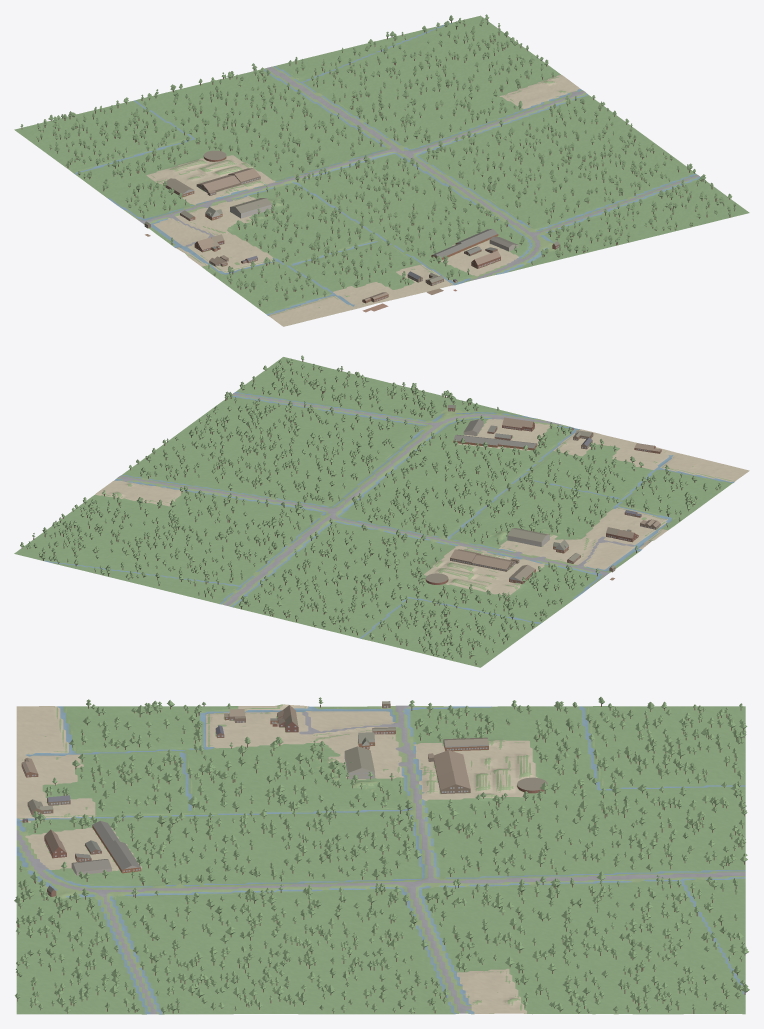
File: bosven-veghel_x333_y811.glb
3 renders of one model, top to bottom at view 1: azimuth 30°, elevation 25°; view 2: azimuth 150°, elevation 25°; view 3: azimuth 270°, elevation 25°, orthographic. The views are drawn at different scales.
Visible parts, largest first — view 1: class:green, class:tree, class:sand, class:grass, class:water, class:trunk, class:road, class:roof, class:wall; view 2: class:green, class:tree, class:sand, class:grass, class:water, class:trunk, class:road, class:roof, class:wall; view 3: class:green, class:tree, class:sand, class:grass, class:water, class:road, class:trunk, class:roof, class:wall, class:trim.
Boxes of the visible parts, bbox=[...] form: class:green: bbox=[14, 15, 749, 314]; class:tree: bbox=[20, 14, 736, 304]; class:sand: bbox=[146, 74, 580, 326]; class:grass: bbox=[75, 65, 697, 316]; class:water: bbox=[75, 23, 700, 315]; class:trunk: bbox=[21, 19, 734, 306]; class:road: bbox=[137, 66, 699, 280]; class:roof: bbox=[145, 150, 559, 300]; class:wall: bbox=[144, 156, 559, 312]; class:green: bbox=[14, 357, 732, 667]; class:tree: bbox=[20, 355, 721, 663]; class:sand: bbox=[95, 419, 749, 596]; class:grass: bbox=[96, 393, 734, 624]; class:water: bbox=[44, 391, 734, 638]; class:trunk: bbox=[21, 360, 720, 664]; class:road: bbox=[118, 393, 634, 605]; class:roof: bbox=[425, 405, 660, 582]; class:wall: bbox=[425, 406, 661, 584]; class:green: bbox=[16, 706, 745, 1014]; class:tree: bbox=[14, 697, 749, 1012]; class:sand: bbox=[16, 704, 537, 1013]; class:grass: bbox=[16, 704, 745, 1014]; class:water: bbox=[16, 706, 745, 1014]; class:road: bbox=[16, 705, 745, 1014]; class:trunk: bbox=[17, 703, 745, 1013]; class:roof: bbox=[22, 701, 547, 892]; class:wall: bbox=[21, 703, 547, 896]; class:trim: bbox=[22, 705, 487, 895].
Size of the model in its own units: 504 by 18.33 by 505.
